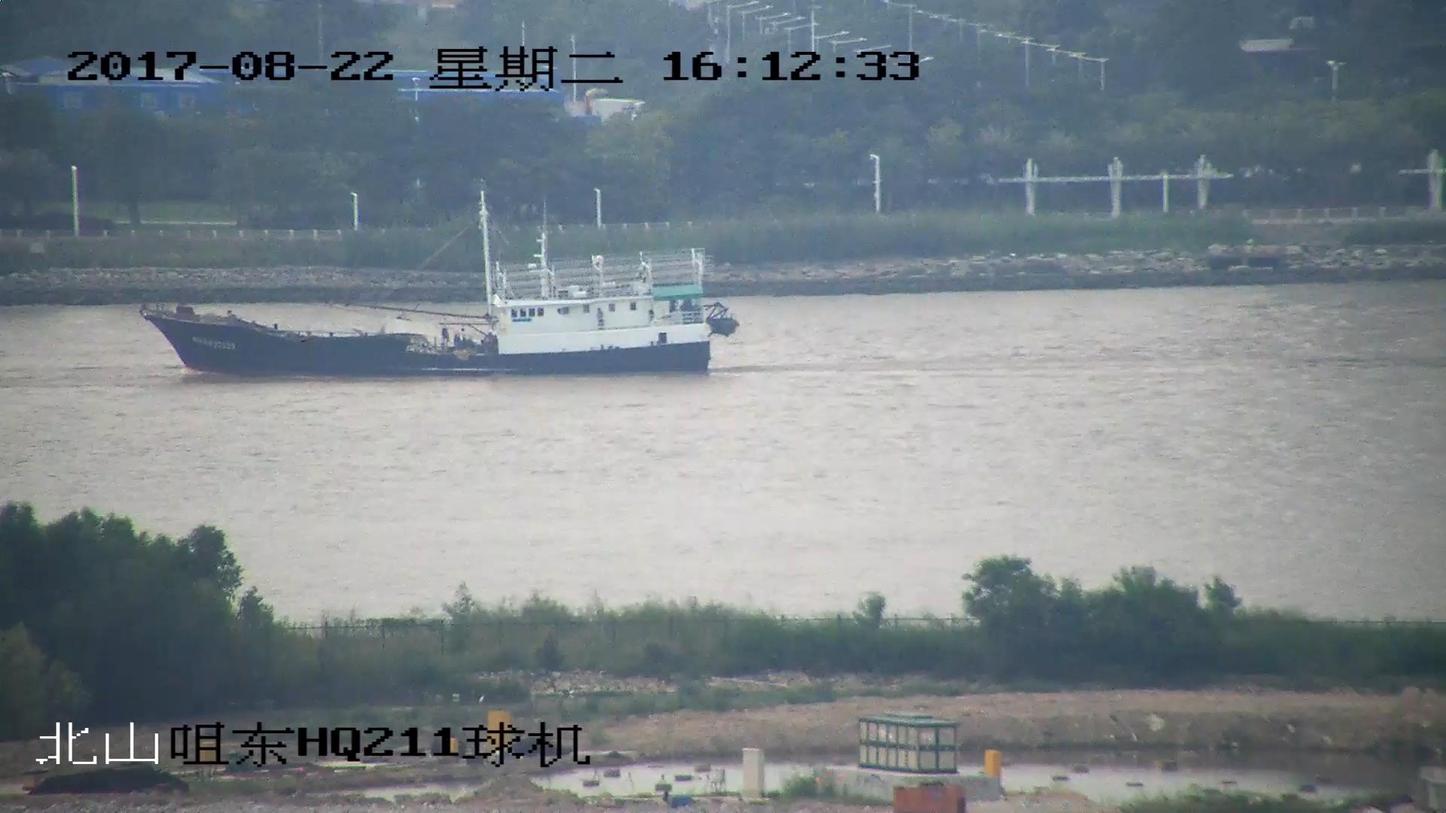fishing boat: (140, 196, 737, 373)
